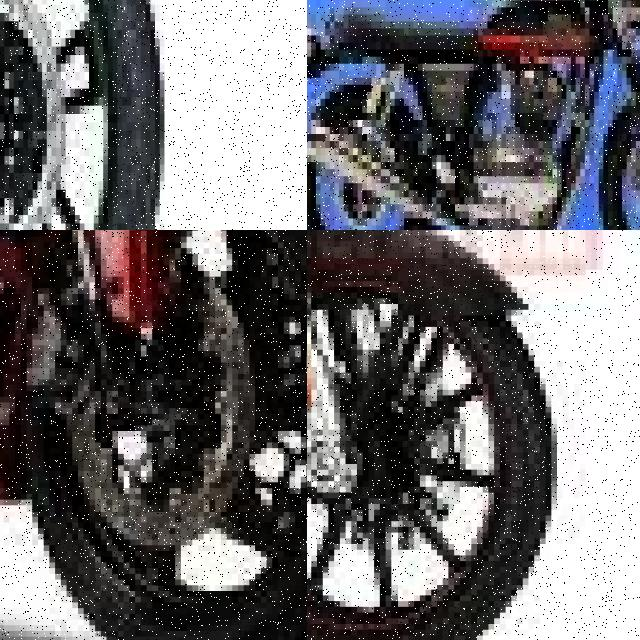bike: (0, 230, 307, 640), (307, 230, 568, 640), (307, 0, 640, 230), (0, 0, 178, 230)
